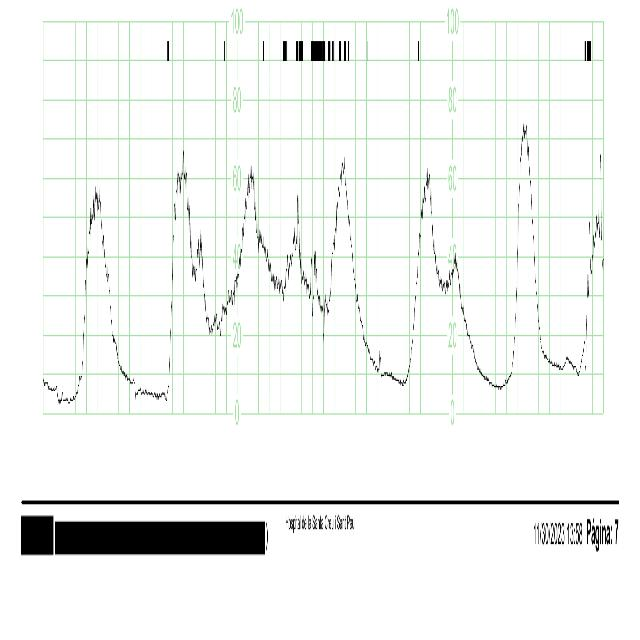contraction: (167, 148, 206, 396), (508, 118, 540, 378), (406, 162, 444, 378), (77, 183, 113, 388), (579, 158, 603, 367), (328, 154, 355, 307), (235, 168, 261, 289), (281, 193, 306, 301)
